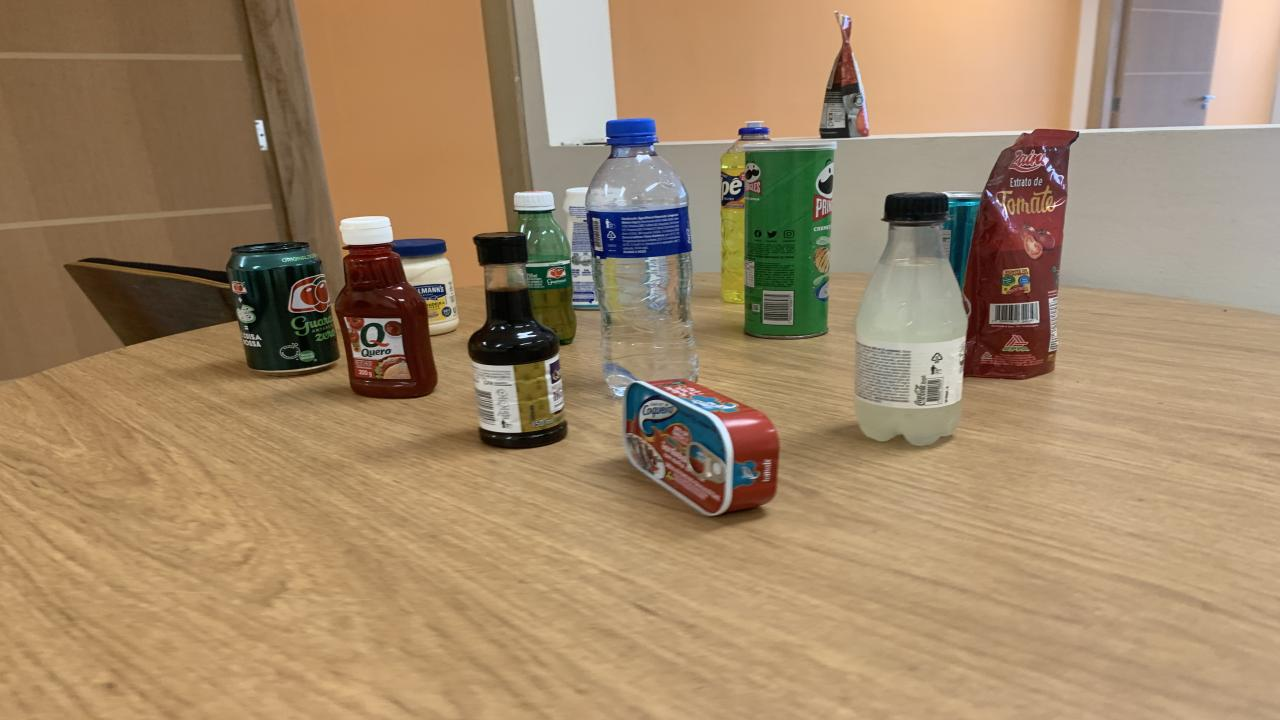Cleaner-Cleanup_Items: (565, 188, 598, 308)
Detergent-Cleanup_Items: (720, 122, 770, 304)
English_Sauce-Pantry_Items: (468, 232, 568, 448)
Guarana-Drinks: (515, 191, 575, 343)
Guarana_Can-Drinks: (228, 242, 340, 373)
Ketchup-Pantry_Items: (335, 216, 438, 398)
Mayonnaise-Pantry_Items: (392, 238, 458, 334)
Pringles-Snacks: (742, 141, 838, 338)
Soda-Drinks: (855, 191, 968, 446)
Tea-Drinks: (942, 191, 982, 289)
Tomato_Sauce-Pantry_Items: (965, 129, 1078, 379)
Tuna_Can-Pantry_Items: (622, 379, 780, 516)
Water_Bottle-Drinks: (585, 120, 698, 396)
